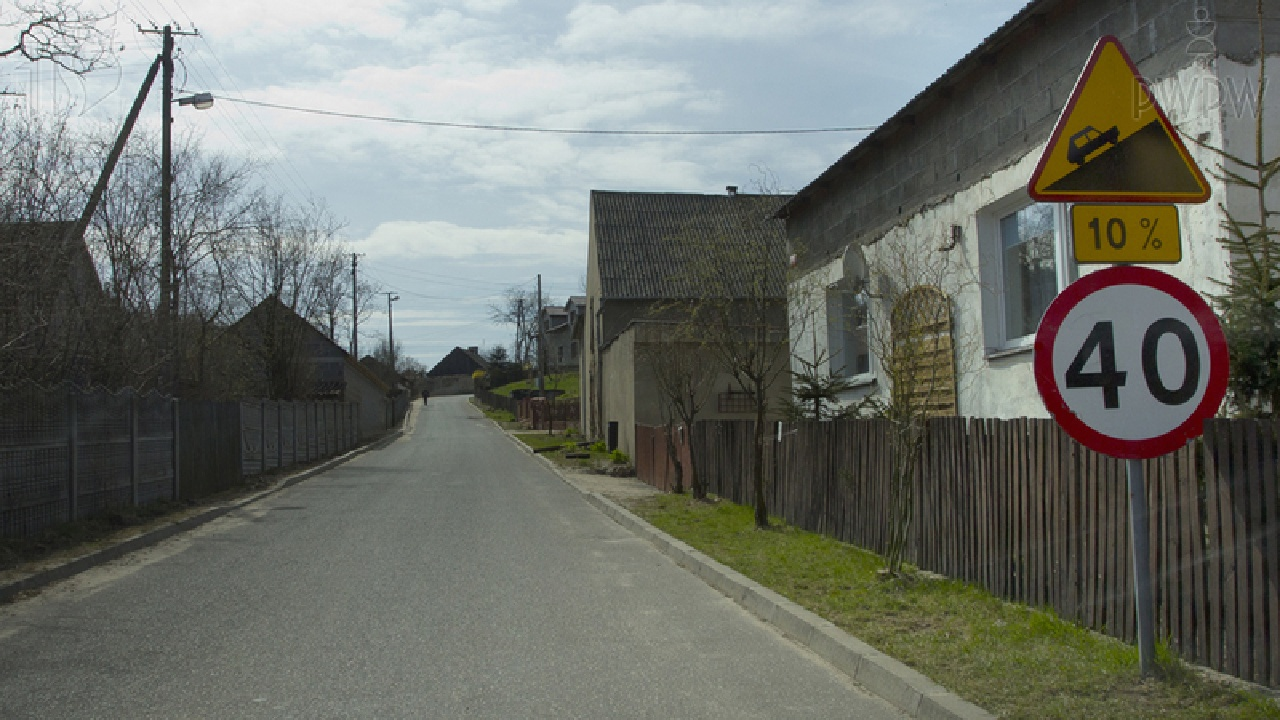A23: (1026, 34, 1213, 201)
B33_40: (1033, 266, 1232, 458)
